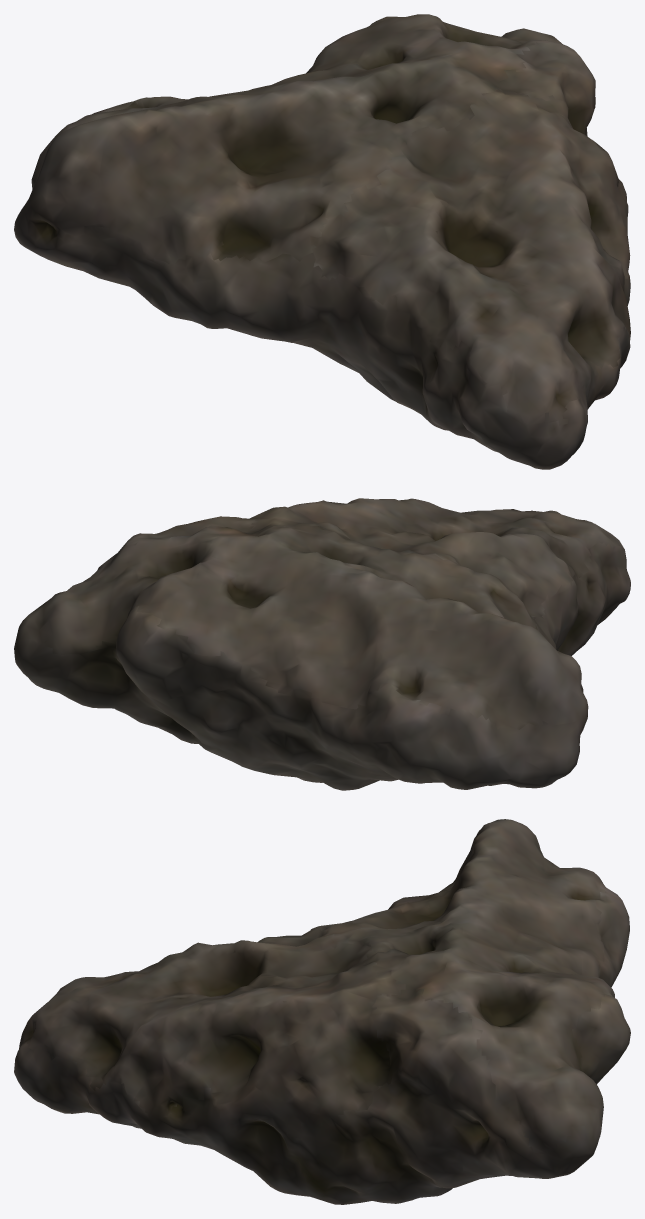
File: asteroid_uncommon_3_lod2.glb
The picture shows the model from 3 angles, top to bottom: view 1: azimuth 30°, elevation 25°; view 2: azimuth 150°, elevation 25°; view 3: azimuth 270°, elevation 25°; orthographic projection. The views are drawn at different scales.
Parts seen in each view (by area): view 1: model; view 2: model; view 3: model.
Part boxes in pixels (x1,y1,x2,y2): model: [14, 14, 630, 469]; model: [14, 498, 630, 790]; model: [14, 819, 630, 1204].
Bounding box in the file's own units: 1.86 × 0.805 × 1.9.
1 material, 1 textured.
